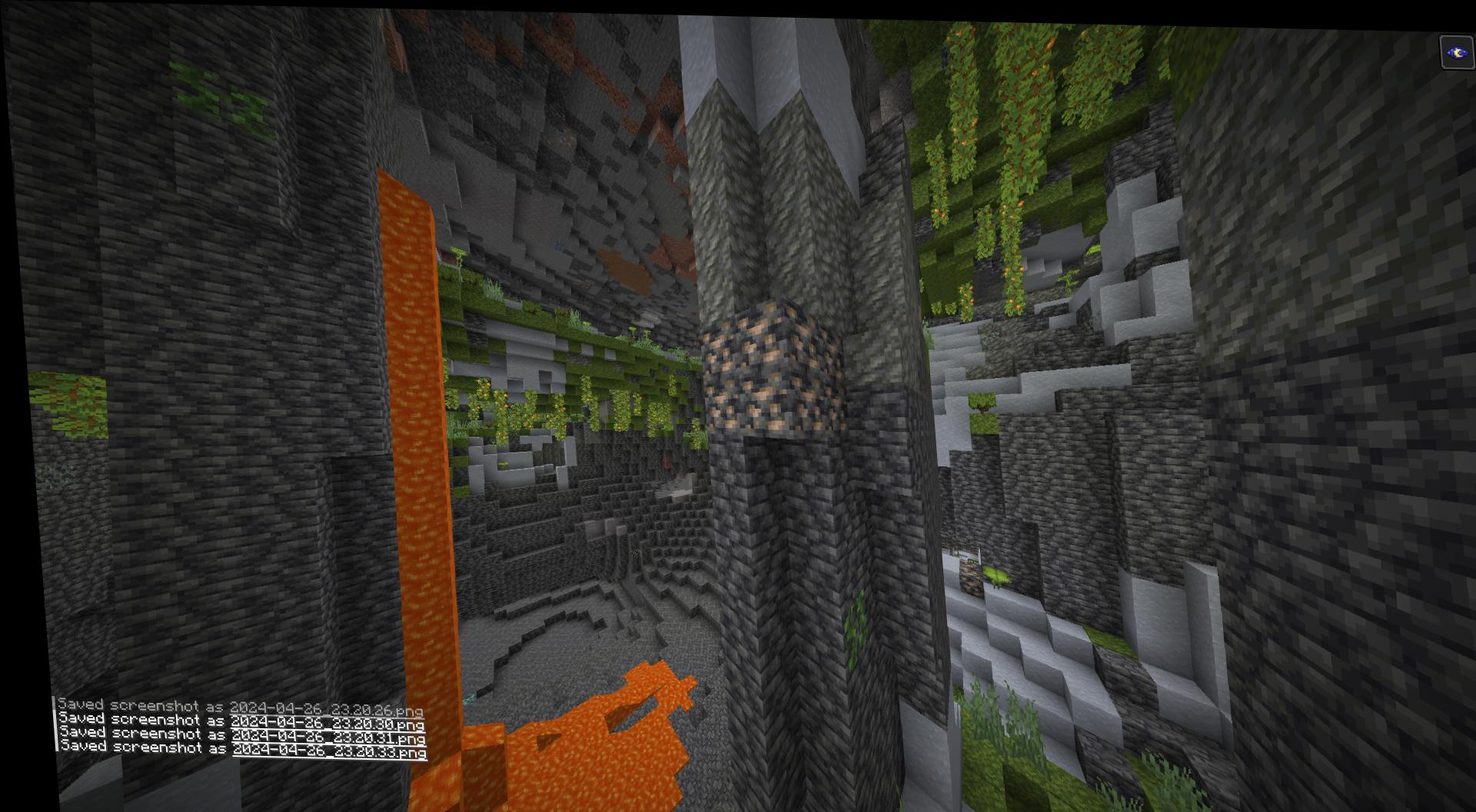iron ore: (732, 301, 778, 364), (736, 371, 781, 429), (776, 305, 815, 366), (692, 319, 732, 375), (698, 377, 738, 431), (781, 373, 818, 429), (813, 378, 845, 431), (812, 326, 840, 376), (949, 553, 974, 585)
